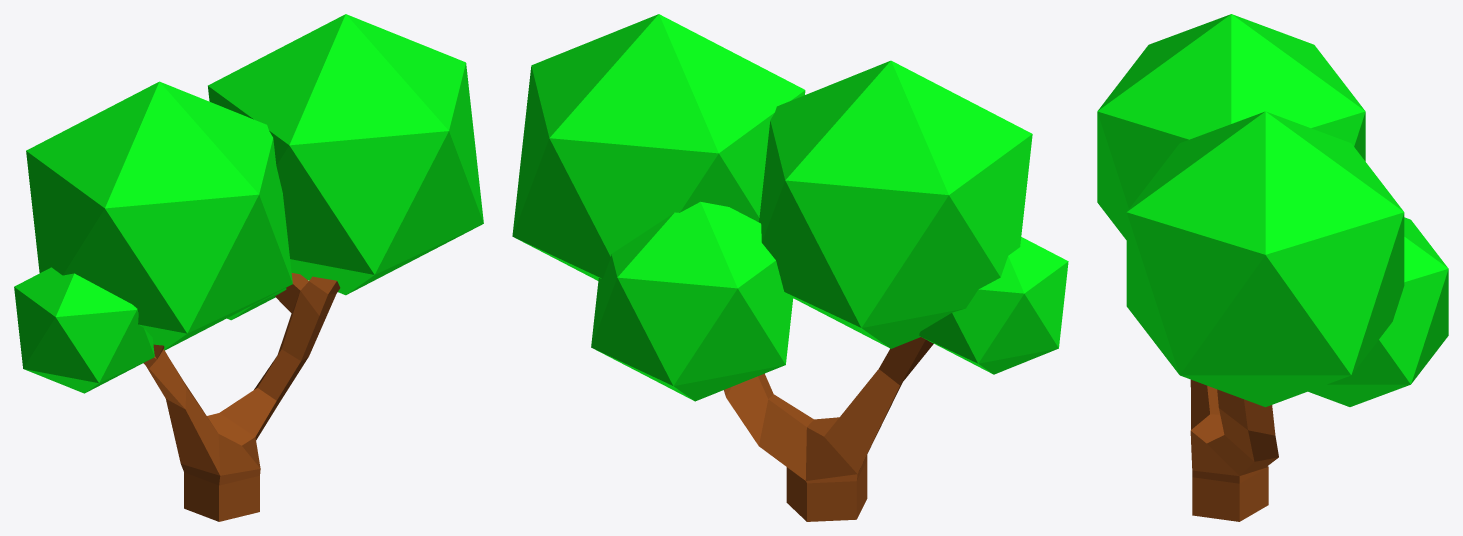
File: kucukAgac.gltf
3 renders of one model, left to right at view 1: azimuth 30°, elevation 25°; view 2: azimuth 150°, elevation 25°; view 3: azimuth 270°, elevation 25°, orthographic. The views are drawn at different scales.
Visible parts, largest first — view 1: Cylinder; view 2: Cylinder; view 3: Cylinder.
Part boxes in pixels (x1,y1,x2,y2): Cylinder: (14,14,483,521); Cylinder: (512,14,1068,521); Cylinder: (1097,14,1448,521).
Size of the model in its own units: 3.32 by 2.99 by 2.04.
1 material, 1 textured.
